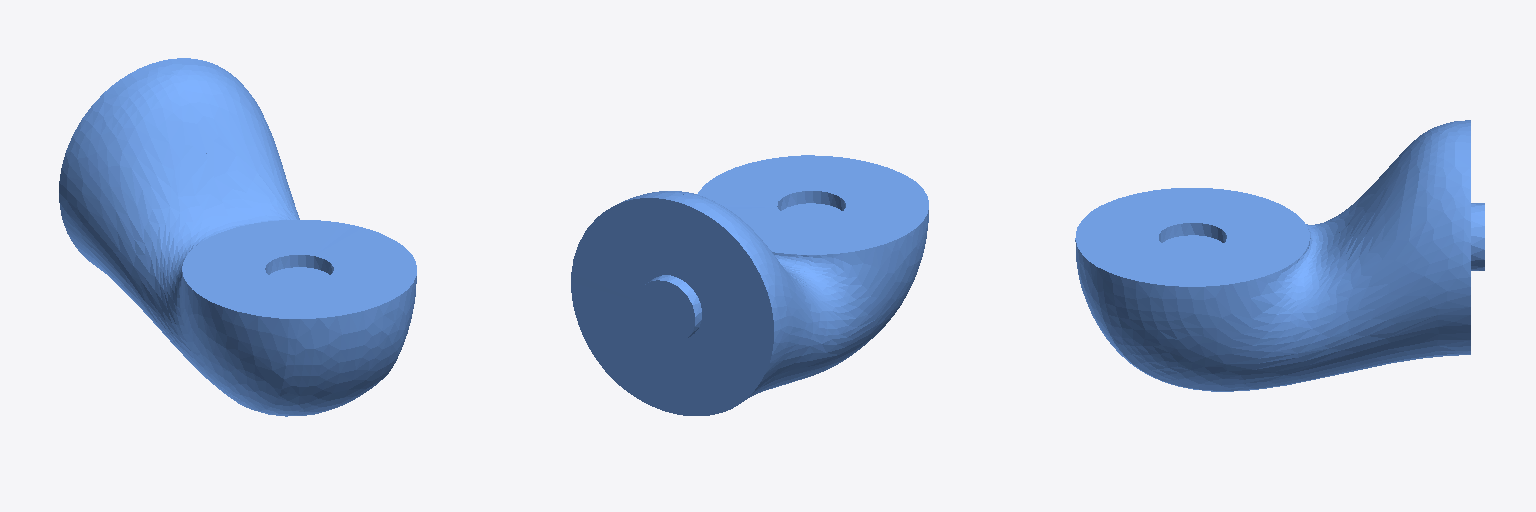
3 renders of one model, left to right at view 1: azimuth 30°, elevation 25°; view 2: azimuth 150°, elevation 25°; view 3: azimuth 270°, elevation 25°, orthographic.
Visible parts, largest first — view 1: Link_1; view 2: Link_1; view 3: Link_1.
Boxes of the visible parts, x1,y1,x2,y2 form: Link_1: [59, 58, 416, 416]; Link_1: [571, 155, 928, 415]; Link_1: [1075, 120, 1484, 391].
Bounding box in the file's own units: 0.1711 × 0.2011 × 0.2979.